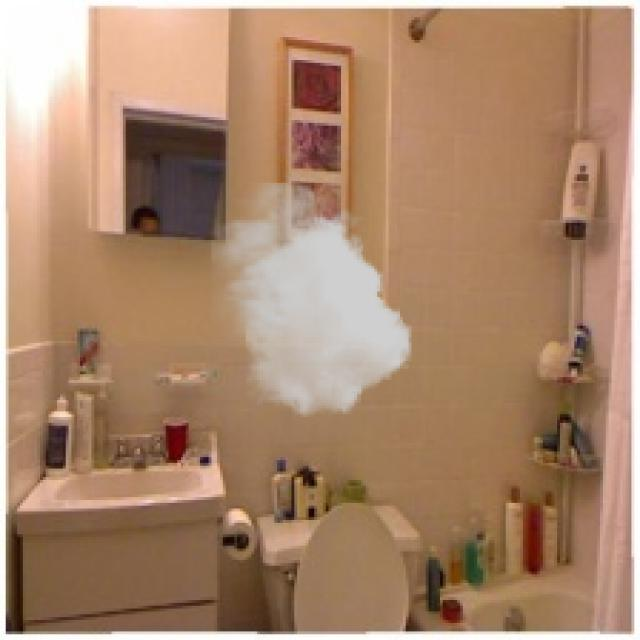smoke: (212, 183, 412, 417)
